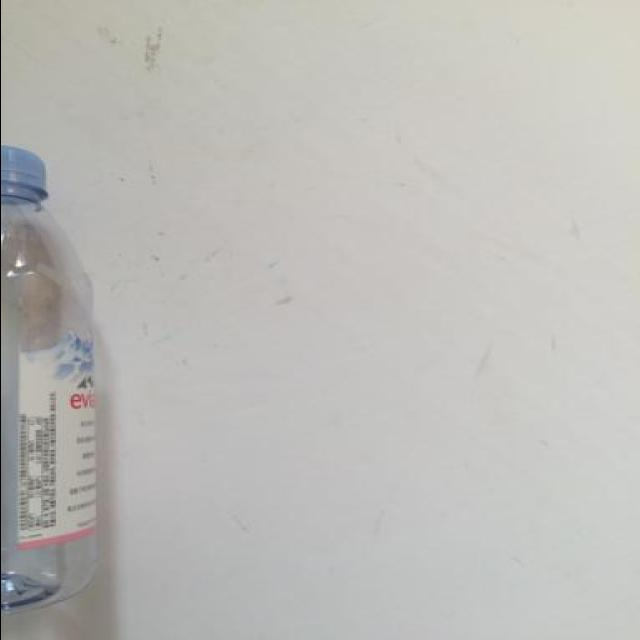litter: (0, 143, 96, 615)
